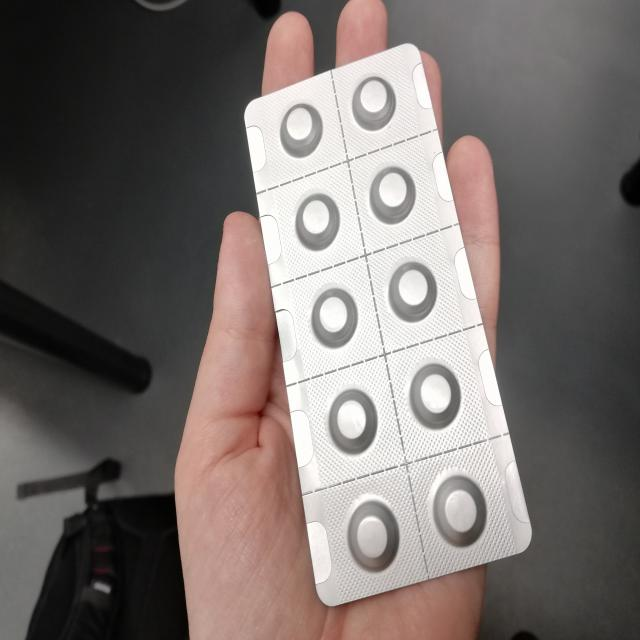Pill: (429, 463, 489, 552), (322, 382, 383, 459), (344, 498, 400, 576), (406, 354, 461, 433), (385, 254, 439, 328), (306, 281, 362, 352), (289, 189, 343, 254), (274, 96, 328, 160), (366, 161, 419, 224), (347, 70, 404, 128)
